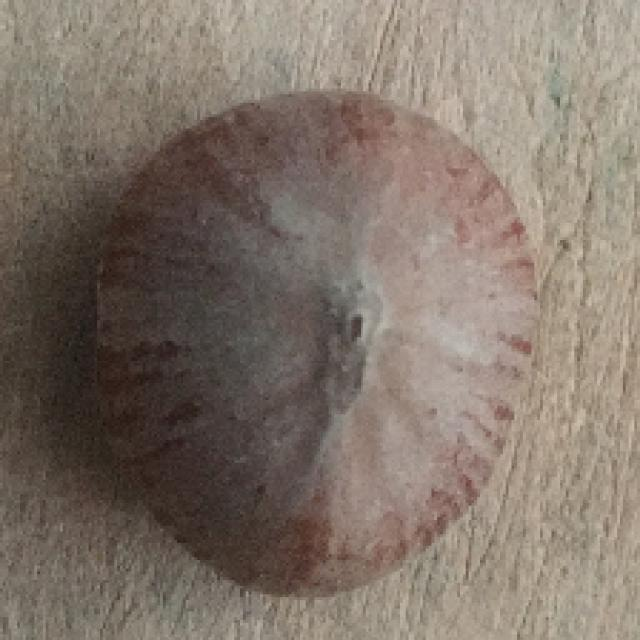QualityHazelnut: (89, 87, 541, 602)
